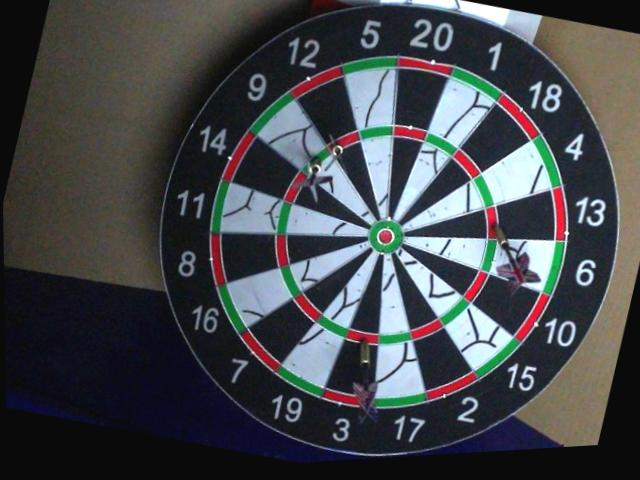triple_12: (332, 132, 361, 155)
triple_13: (486, 208, 504, 239)
triple_3: (350, 332, 376, 345)
triple_9: (308, 151, 330, 173)
